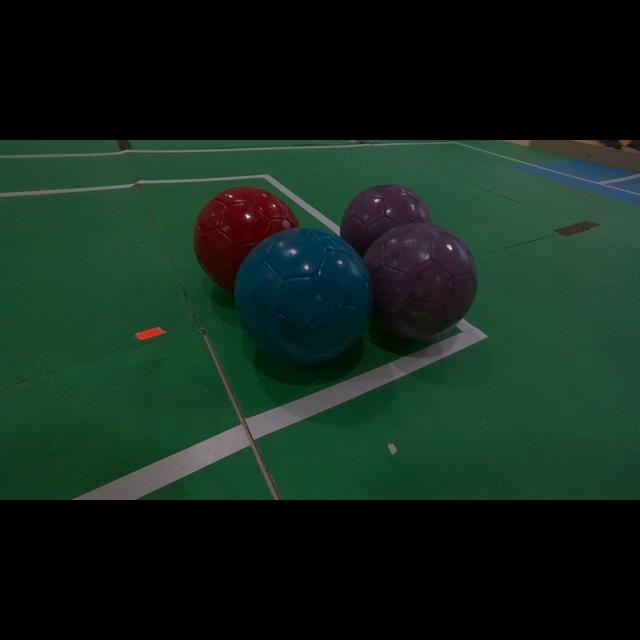B: (235, 228, 372, 363)
P: (364, 222, 478, 339), (340, 184, 431, 256)
R: (194, 186, 299, 291)
